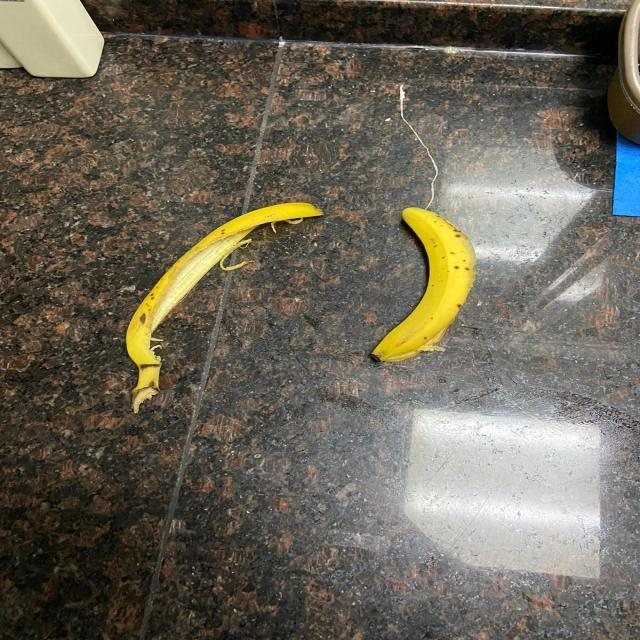Banana: (114, 190, 324, 412), (362, 195, 480, 376)
